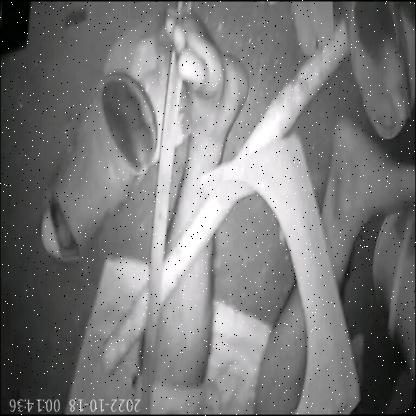leg: (253, 105, 416, 416), (140, 2, 260, 402)
